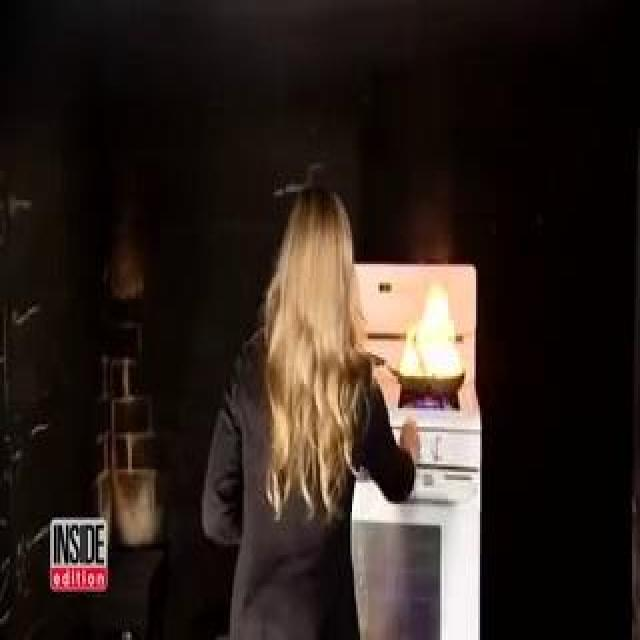Fire: (72, 98, 430, 340)
